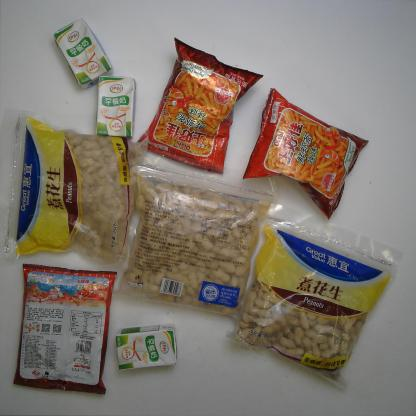Dried Food: (225, 199, 404, 389), (108, 142, 278, 320), (4, 110, 156, 265)
Milk: (52, 17, 112, 90), (113, 322, 185, 372), (94, 72, 137, 138)
Puffed Food: (134, 35, 264, 175), (242, 85, 370, 221), (13, 262, 118, 396)
